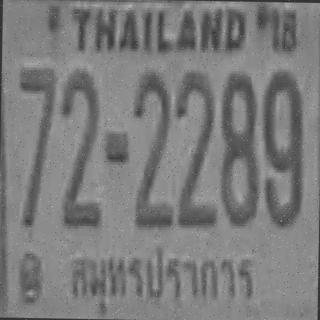N02: (59, 68, 102, 226), (174, 68, 216, 224), (132, 68, 172, 226)
N07: (15, 64, 55, 225)
N08: (218, 70, 258, 224)
N09: (260, 69, 302, 224)
P57: (66, 240, 258, 314)
